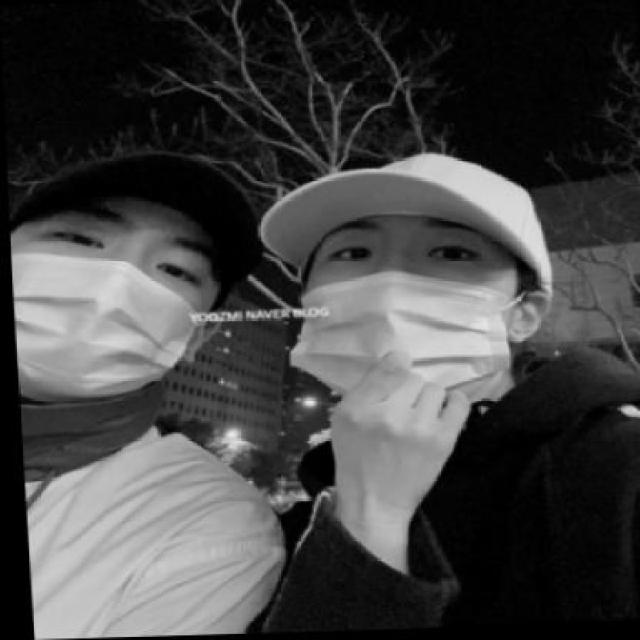hat: (248, 138, 555, 324), (8, 139, 270, 307)
